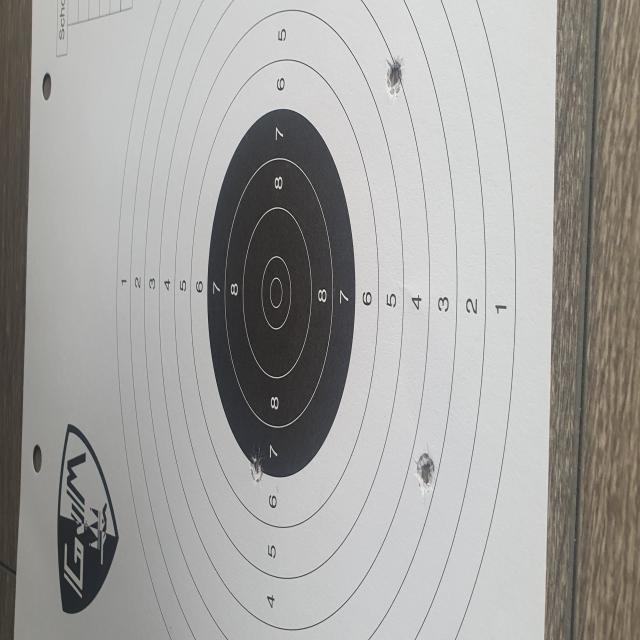4: (416, 446, 437, 499)
5: (384, 52, 404, 102)
8: (250, 448, 263, 486)
Black Contour: (208, 108, 356, 480)
Target: (115, 0, 516, 640)
